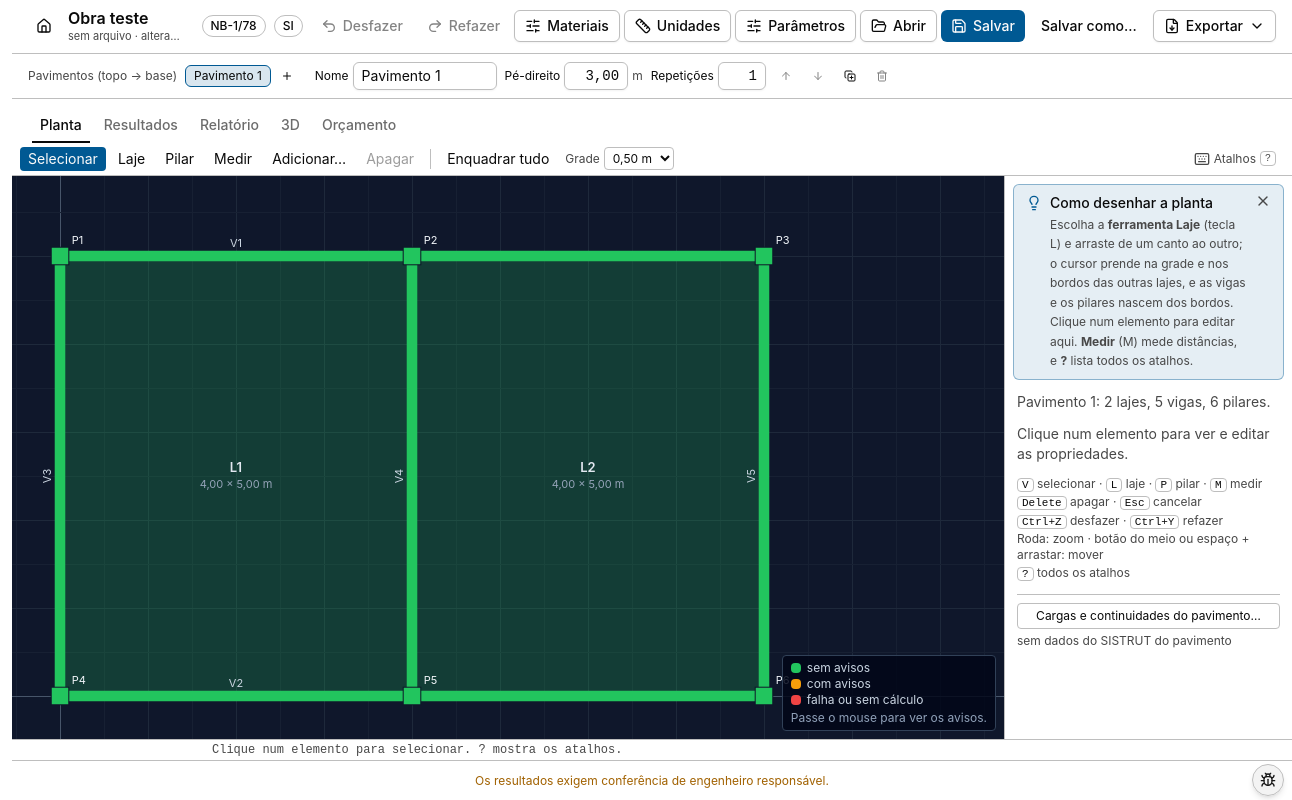
Test case: resultados pela nb1-78 › detalhamento por viga (posições e esquema) e a tabela de aço das vigas
Click the tab "Resultados" at x=141, y=124, box [95, 110, 187, 139]
(page scrolled)
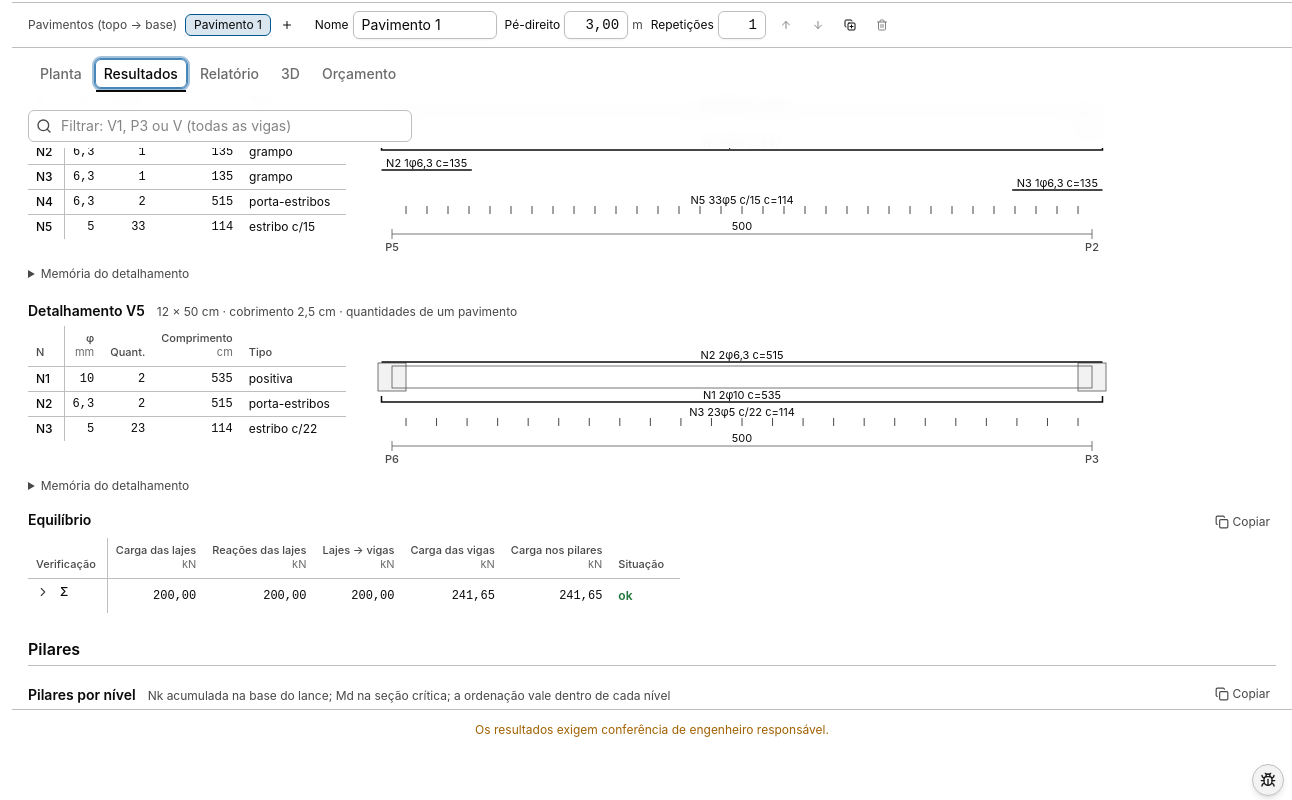
Expected: the 1st cell "grampo" is shown, [241, 139, 346, 164]
Expected: the cell "estribo c/15" is shown, [241, 214, 346, 238]
Expected: the element showing "N φ mm Quant. Comprimento cm Tipo" is shown, [28, 326, 346, 366]
